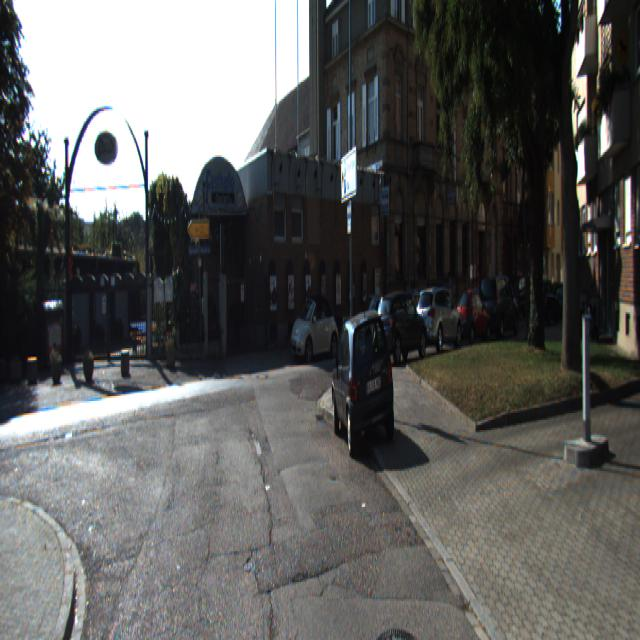Car: (330, 307, 397, 451), (373, 288, 429, 370), (290, 291, 340, 361), (415, 284, 464, 354), (480, 272, 521, 339), (455, 286, 491, 344)
